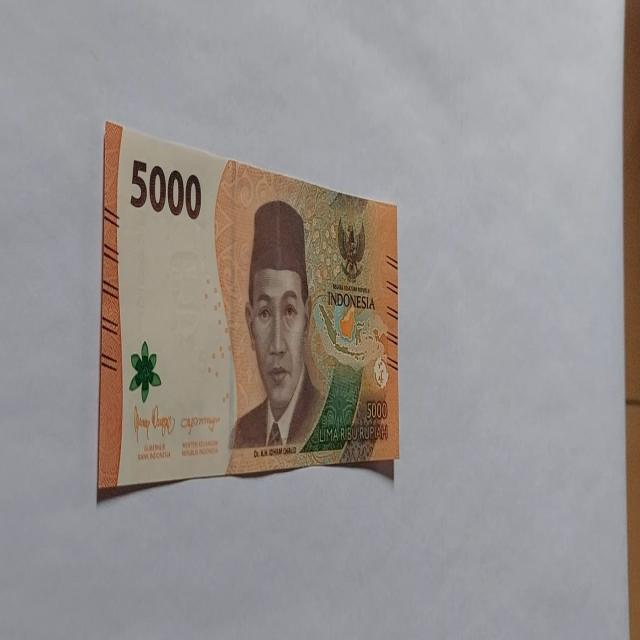lima ribu rupiah: (96, 119, 400, 501), (226, 198, 327, 455)
